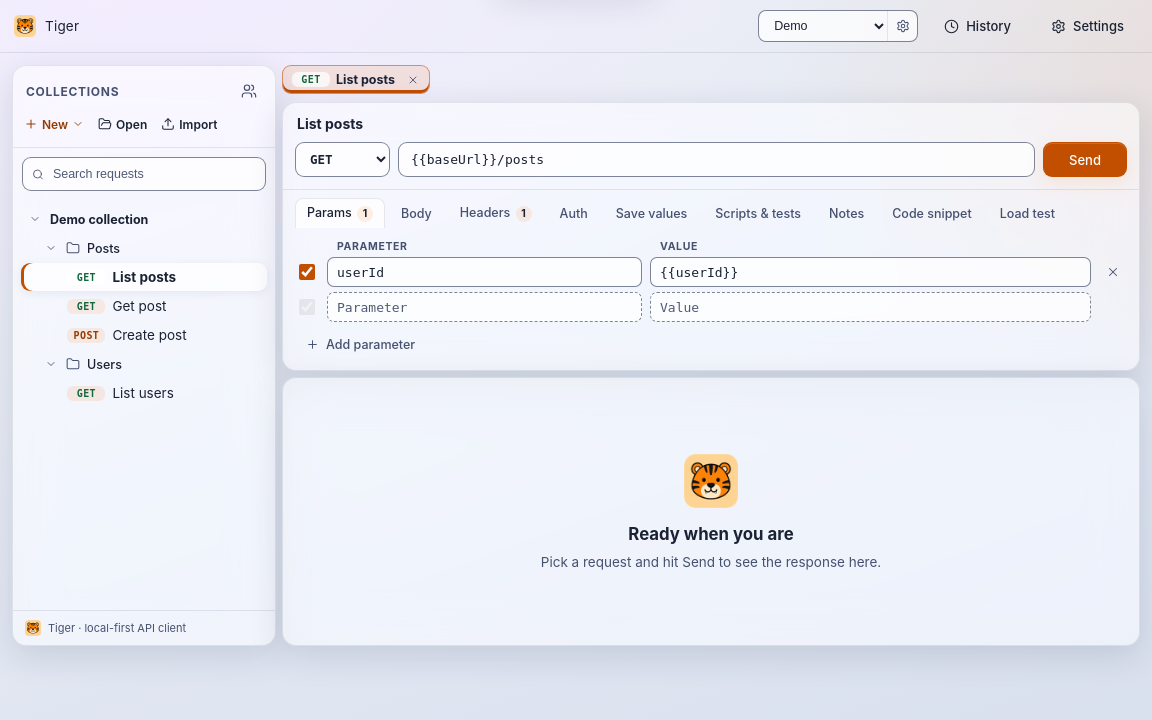
Test: App (browser preview, no Electron bridge) › opens a folder view listing its requests
The width and height of the screenshot is (1152, 720).
What coordinates should you click on to do the following:
click the text "Posts"
I would click on:
 (104, 248)
Its box is 87,240 -> 120,256.
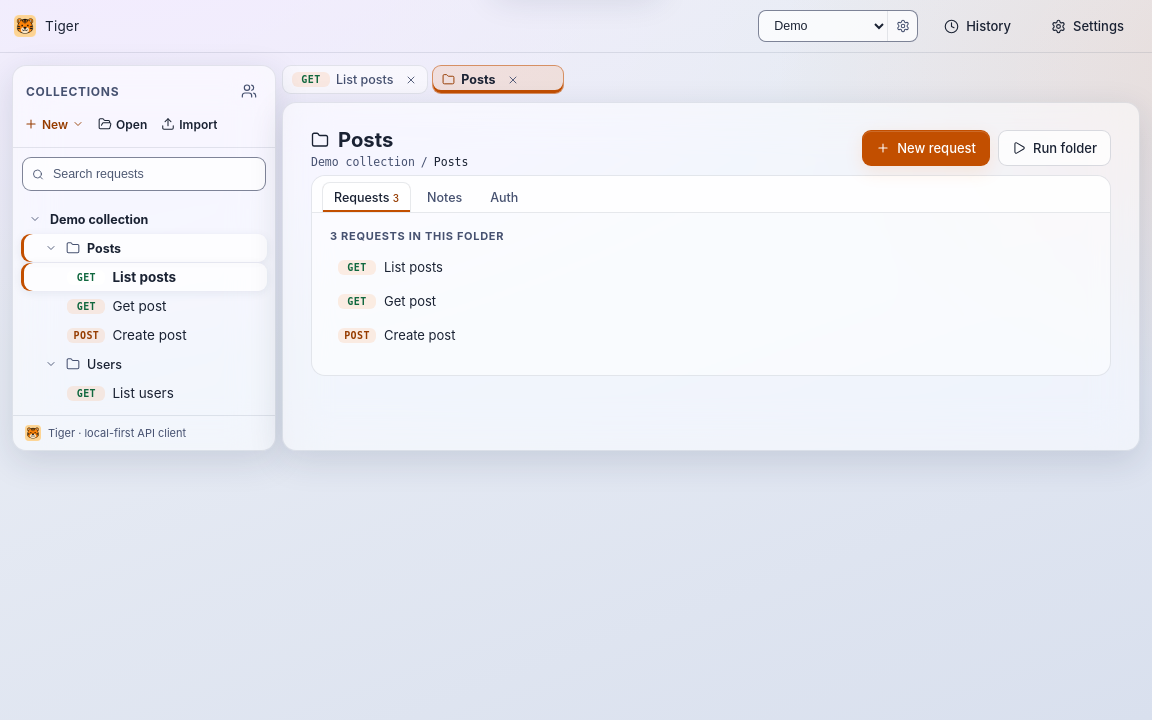
Result: the button "Run folder" is shown at 998,130 -> 1111,166
Result: the heading "3 requests in this folder" is shown at 330,229 -> 504,243
